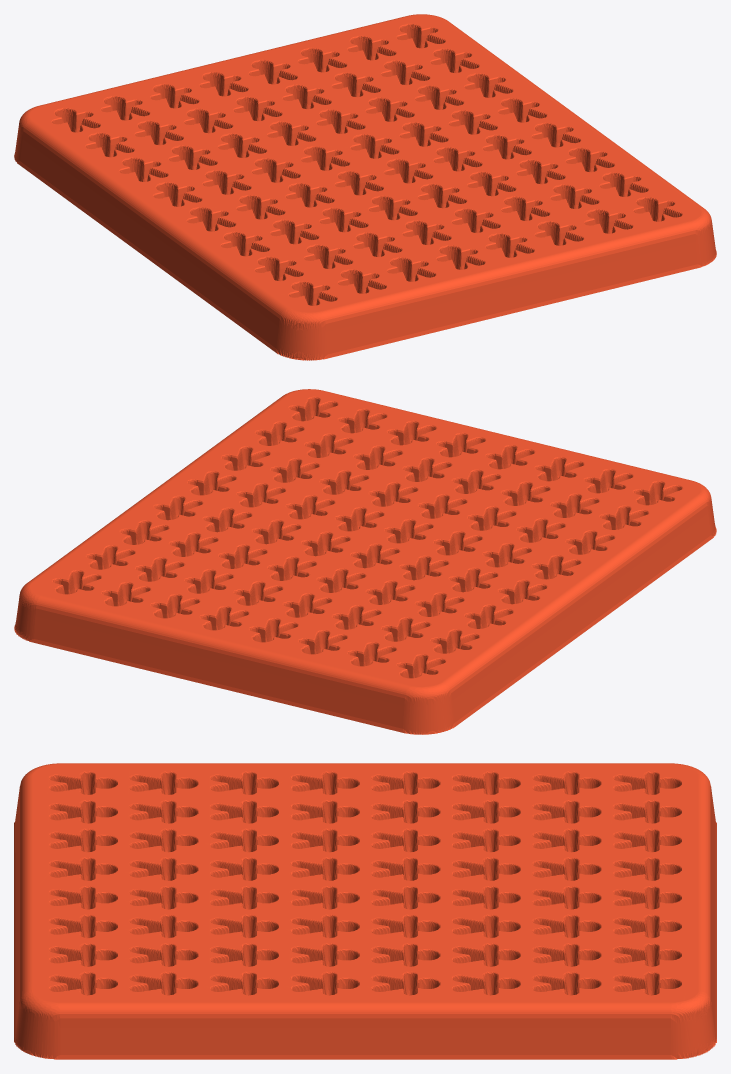
Rendered from mold.glb.
3 renders of one model, top to bottom at view 1: azimuth 30°, elevation 25°; view 2: azimuth 150°, elevation 25°; view 3: azimuth 270°, elevation 25°, orthographic. The views are drawn at different scales.
Visible parts, largest first — view 1: geometry_0; view 2: geometry_0; view 3: geometry_0.
Boxes of the visible parts, x1=… form: geometry_0: x1=14, y1=14, x2=716, y2=360; geometry_0: x1=14, y1=389, x2=716, y2=734; geometry_0: x1=14, y1=763, x2=716, y2=1059.
Size of the model in its own units: 0.1157 by 0.0105 by 0.1355.
